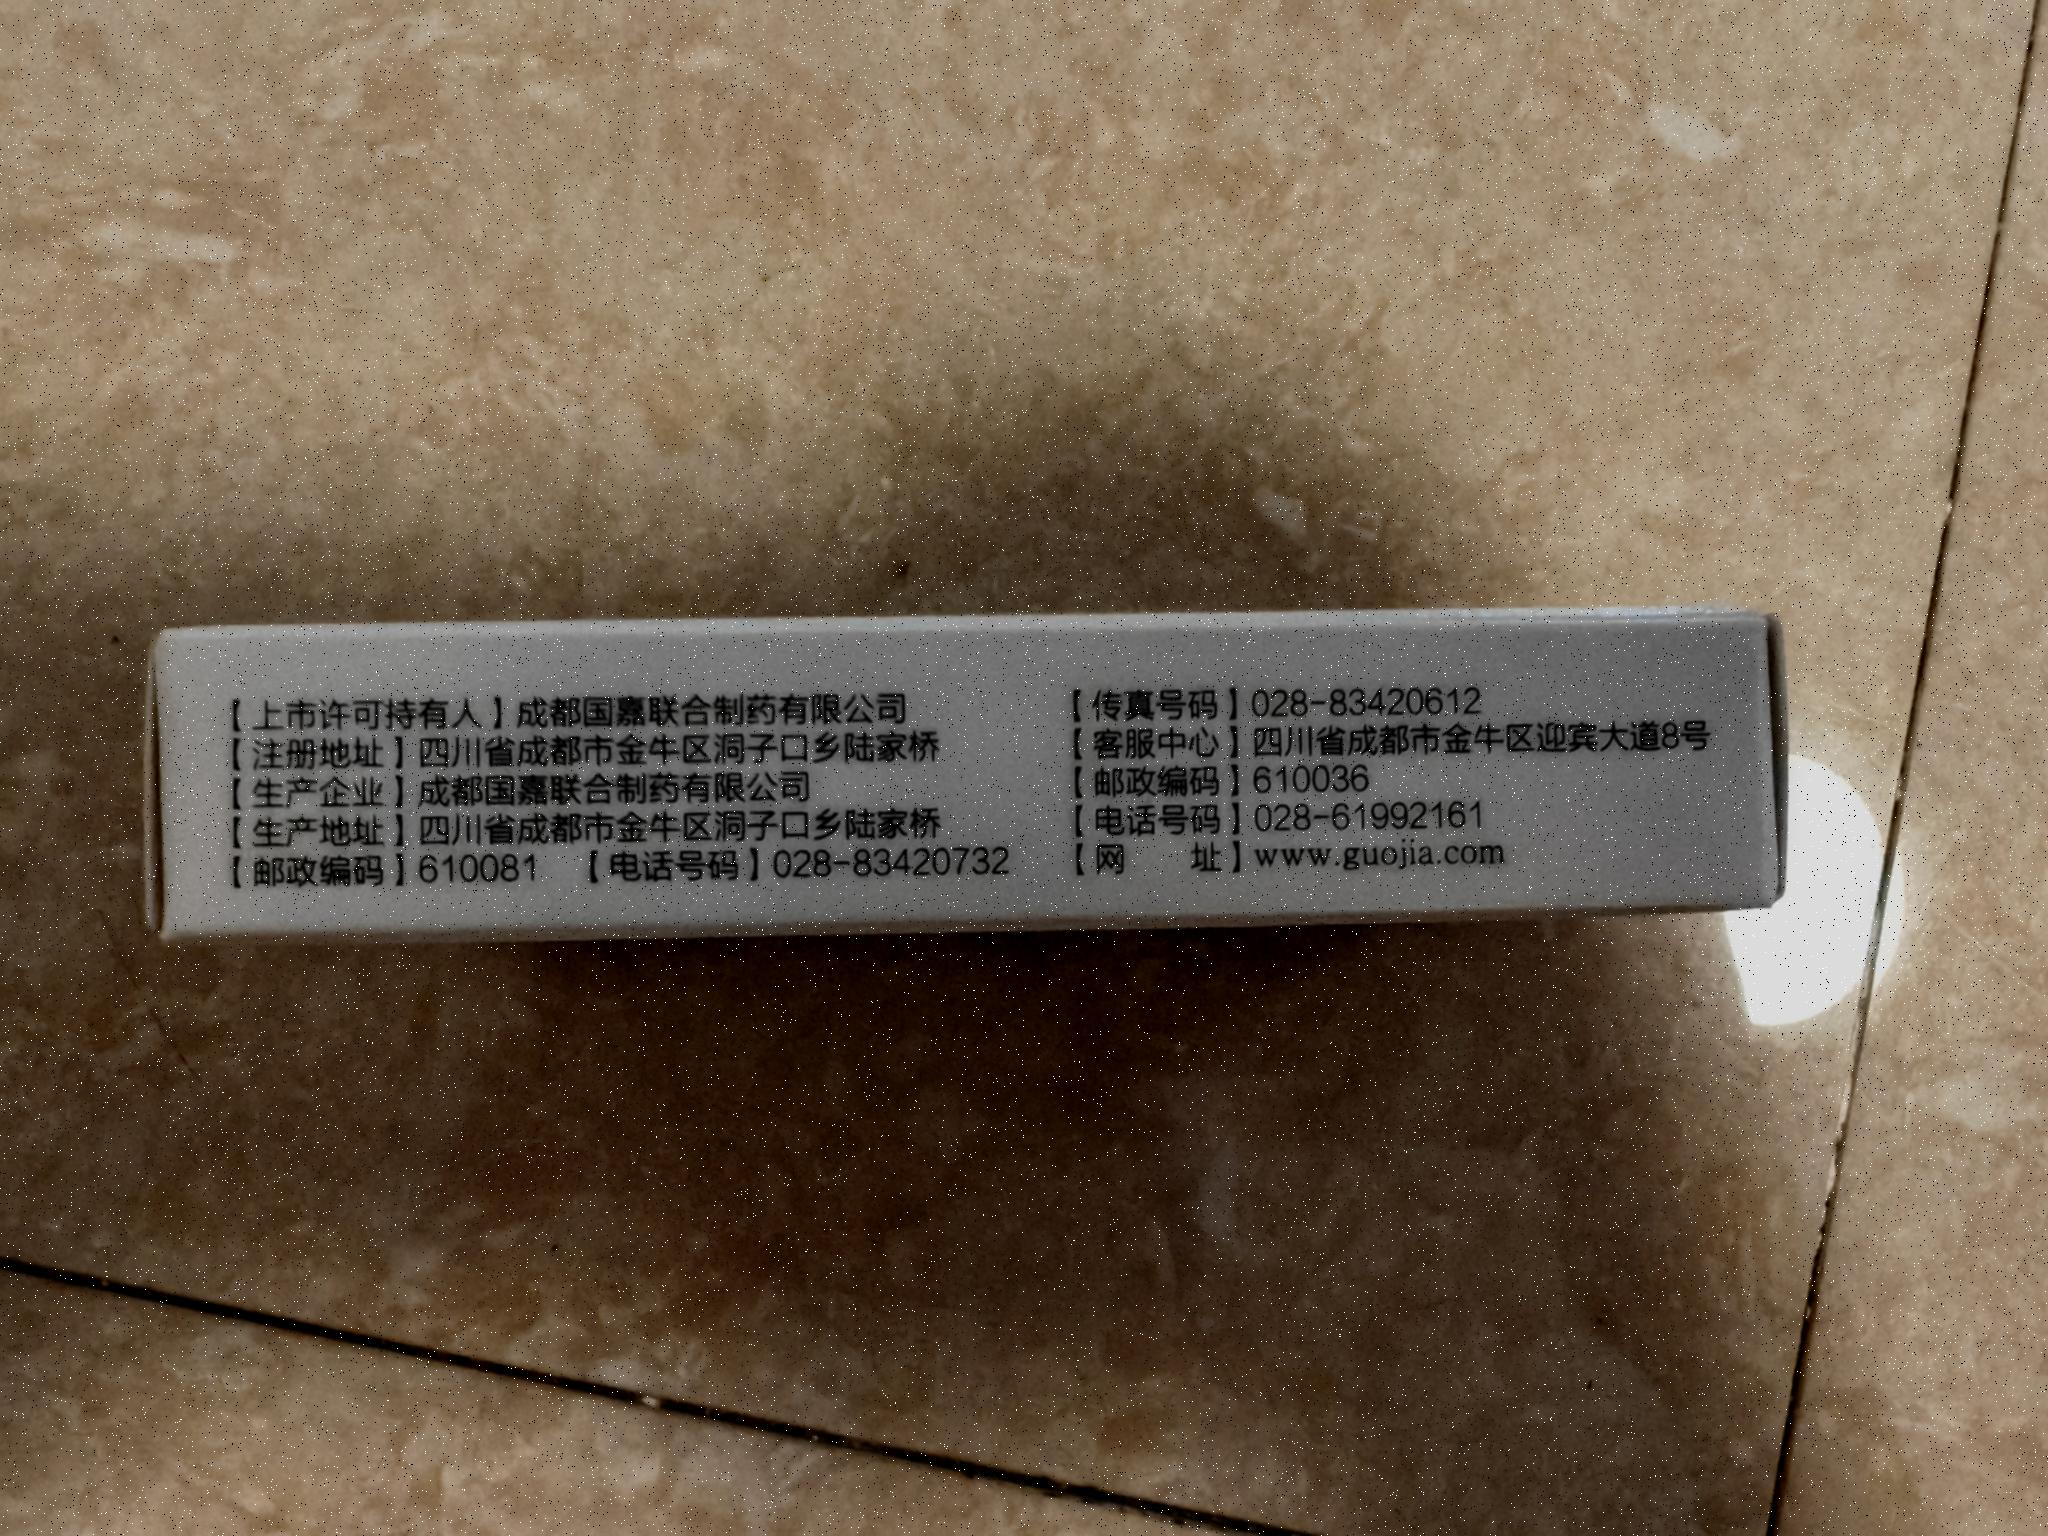Medicine4: (120, 588, 1810, 970)
